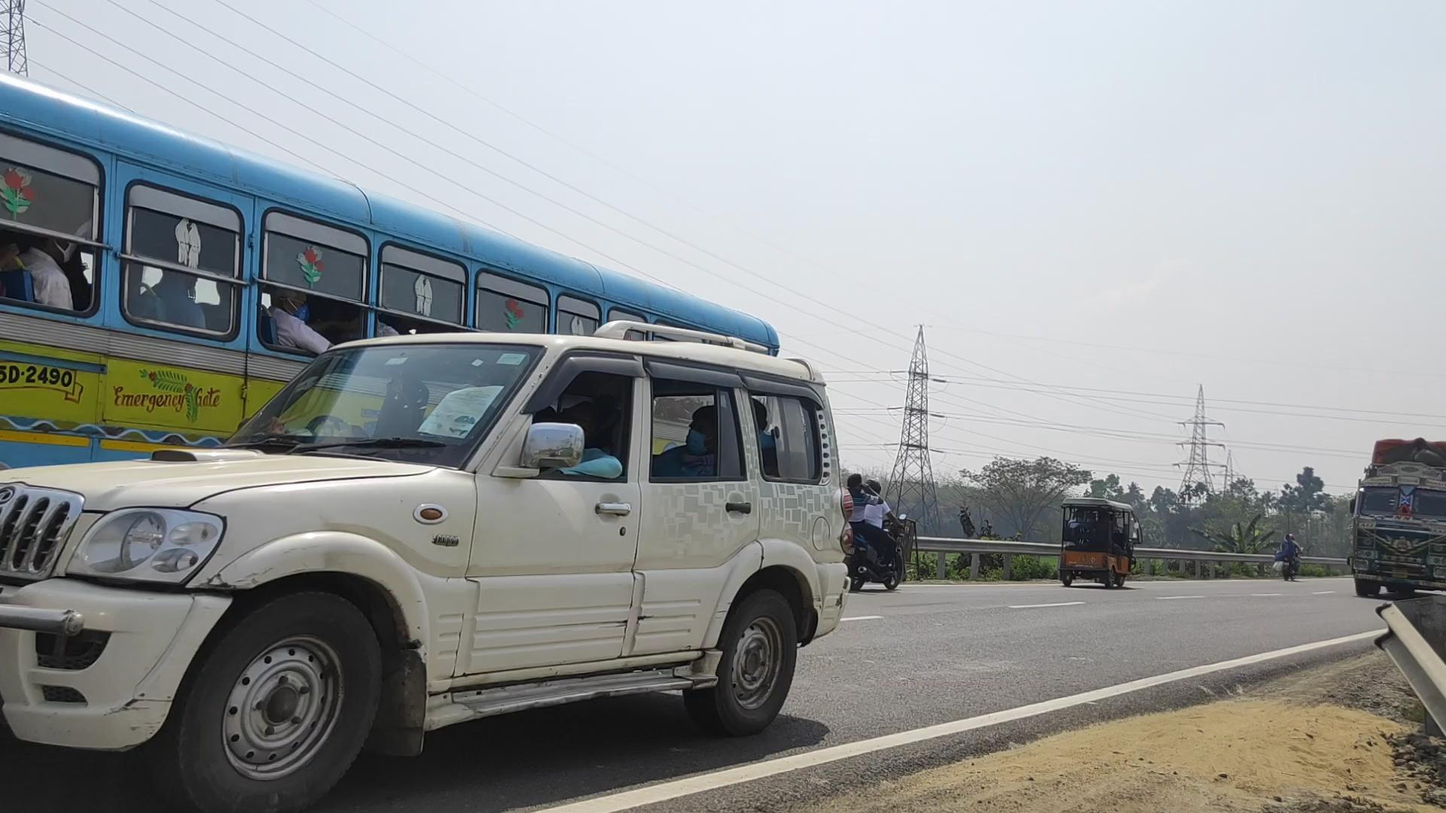Auto: (1058, 497, 1142, 589)
Bus: (1, 72, 780, 713)
bike: (843, 473, 908, 592), (1274, 534, 1304, 581)
car: (3, 318, 854, 813)
truck: (1348, 437, 1446, 600)
